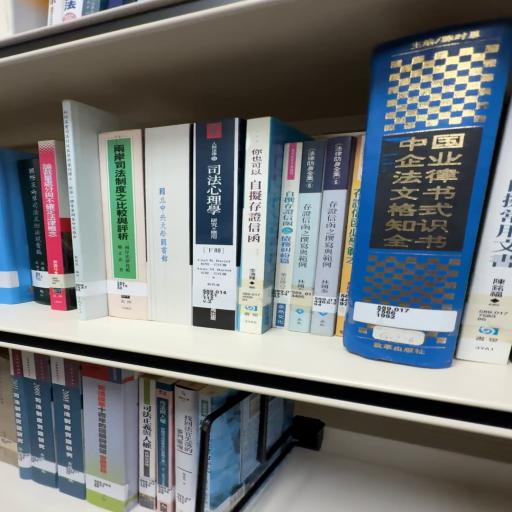backward: (141, 125, 190, 329)
book: (236, 120, 310, 338), (65, 100, 128, 286), (193, 120, 239, 336), (101, 130, 148, 286)
